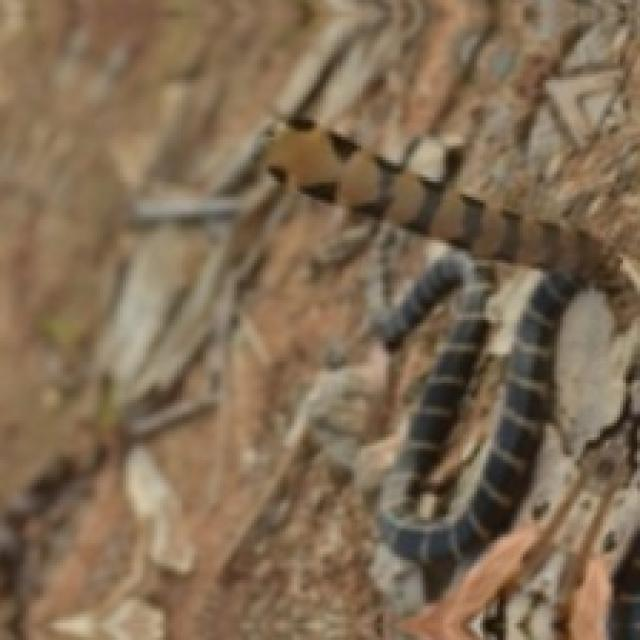king cobra: (251, 120, 637, 637), (266, 120, 637, 629)
